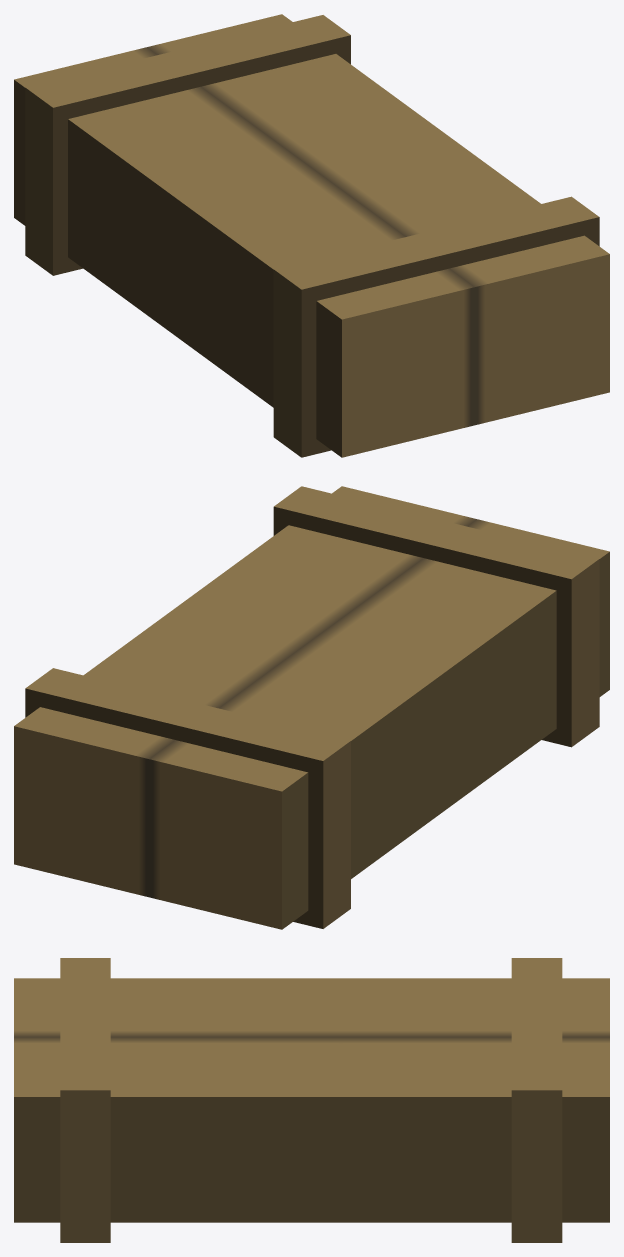
File: SM_Prop_Ammo_Box_02.fbx
3 renders of one model, top to bottom at view 1: azimuth 30°, elevation 25°; view 2: azimuth 150°, elevation 25°; view 3: azimuth 270°, elevation 25°, orthographic. The views are drawn at different scales.
Parts seen in each view (by area): view 1: SM_Prop_Ammo_Box_02; view 2: SM_Prop_Ammo_Box_02; view 3: SM_Prop_Ammo_Box_02.
Boxes of the visible parts, box(x1,y1,x2,y2) form: SM_Prop_Ammo_Box_02: box(14, 14, 609, 457); SM_Prop_Ammo_Box_02: box(14, 486, 609, 929); SM_Prop_Ammo_Box_02: box(14, 958, 609, 1242).
Bounding box in the file's own units: 1.08 × 0.5804 × 2.05.
